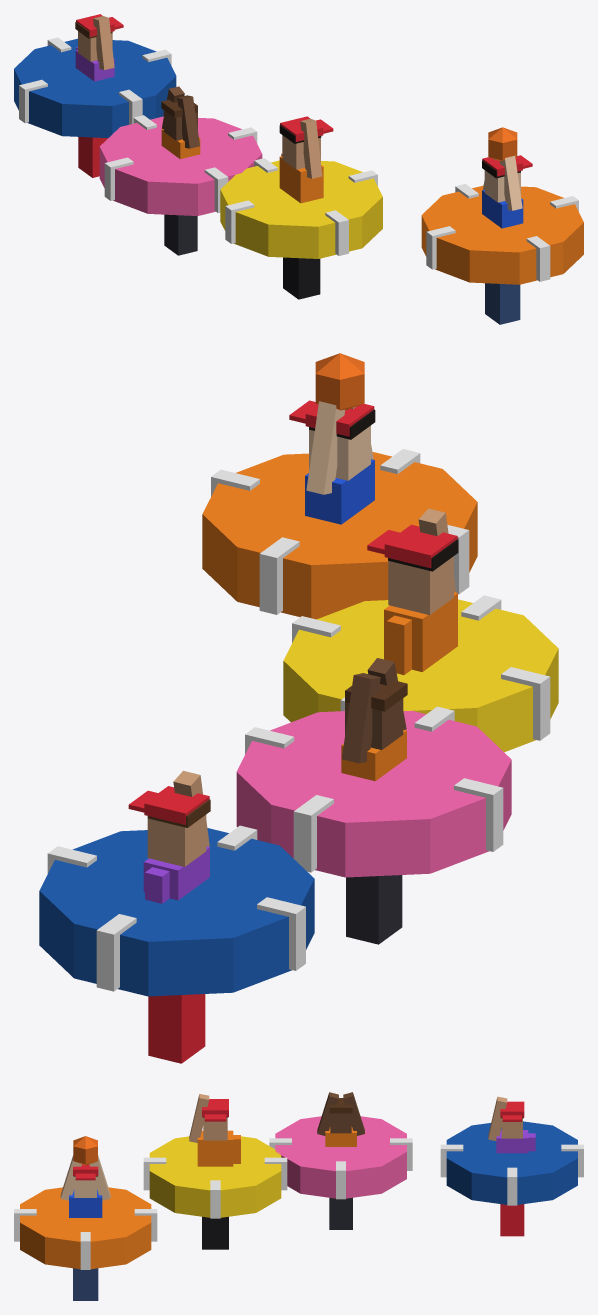
The model's file is ninos_flotador_2.obj.
3 views of the same model, one above another, from view 1: azimuth 30°, elevation 25°; view 2: azimuth 150°, elevation 25°; view 3: azimuth 270°, elevation 25° (orthographic). The views are drawn at different scales.
Visible parts, largest first — view 1: ninos_flotador_2; view 2: ninos_flotador_2; view 3: ninos_flotador_2.
Part boxes in pixels (x1,y1,x2,y2): ninos_flotador_2: [14, 14, 583, 324]; ninos_flotador_2: [39, 353, 558, 1063]; ninos_flotador_2: [14, 1092, 583, 1300].
Bounding box in the file's own units: 2.47 × 1.41 × 4.53.
